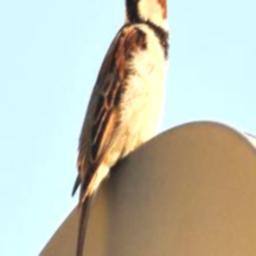Swallow: (72, 0, 172, 256)
